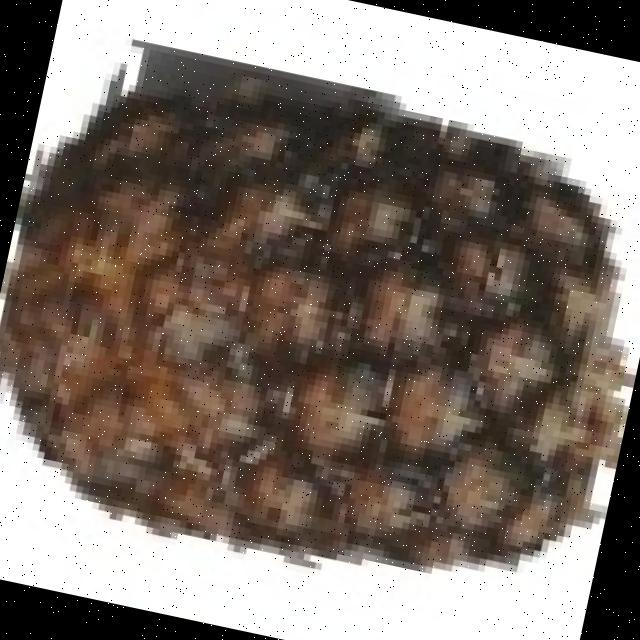pineapple: (4, 62, 623, 579)
